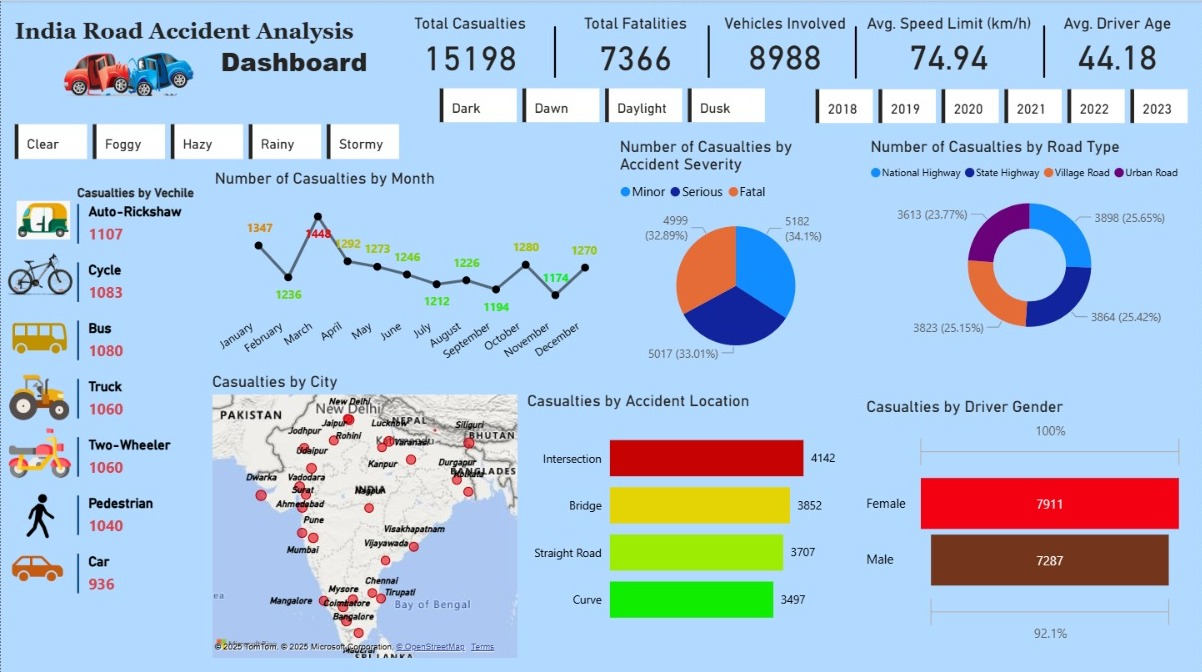

Layout of this report page (visuals, bound fields, positions):
{"tool":"powerbi","page":{"name":"Page 1","canvas":[1280,720],"ordinal":0},"visuals":[{"type":"textbox","box":[9.7,14.6,405.6,103.1],"z":0},{"type":"image","box":[51.6,26.3,172.2,91.4],"z":1000},{"type":"card","title":"Total Casualties","fields":{"Values":["Sum(accident_prediction_india.Number of Casualties)"]},"box":[415,14.2,168.5,68.3],"z":2000},{"type":"card","title":"Total Fatalities","fields":{"Values":["Sum(accident_prediction_india.Number of Fatalities)"]},"box":[599.4,14.2,151.6,68.3],"z":3000},{"type":"card","title":"Vehicles Involved","fields":{"Values":["Sum(accident_prediction_india.Number of Vehicles Involved)"]},"box":[758.1,14.2,152.5,68.3],"z":4000},{"type":"card","title":"Avg. Speed Limit (km/h)","fields":{"Values":["Avg(accident_prediction_india.Speed Limit (km/h))"]},"box":[916,14.2,185.3,68.3],"z":5000},{"type":"card","title":"Avg. Driver Age","fields":{"Values":["Avg(accident_prediction_india.Driver Age)"]},"box":[1107.5,14.2,161.4,68.3],"z":6000},{"type":"advancedSlicerVisual","fields":{"Values":["accident_prediction_india.Year"]},"box":[861.9,89.6,407,47],"z":7000},{"type":"advancedSlicerVisual","fields":{"Values":["accident_prediction_india.Lighting Conditions"]},"box":[462,88.7,356.5,47],"z":8000},{"type":"advancedSlicerVisual","fields":{"Values":["accident_prediction_india.Weather Conditions"]},"box":[9.7,126.4,421.2,47.7],"z":9000},{"type":"image","box":[0,383.2,82.7,77.8],"z":10000},{"type":"multiRowCard","title":"Casualties by Vechile","fields":{"Values":["Sum(accident_prediction_india.Number of Fatalities)","accident_prediction_india.Vehicle Type Involved"]},"box":[75.9,196.5,137.1,494.1],"z":11000},{"type":"image","box":[3.9,441.6,75.9,79.8],"z":12000},{"type":"image","box":[3.9,570,72,69.1],"z":13000},{"type":"image","box":[1,322.9,81.7,72.9],"z":14000},{"type":"image","box":[6.8,517.4,69.1,62.2],"z":15000},{"type":"image","box":[9.7,208.1,70,50.6],"z":16000},{"type":"image","box":[1.9,258.7,79.8,65.2],"z":17000},{"type":"lineChart","title":"Number of Casualties by Month","fields":{"Y":["Sum(accident_prediction_india.Number of Casualties)"],"Category":["Calender_1.Calender.Variation.Date Hierarchy.Month"]},"box":[222.6,179.1,416.7,225.2],"z":18000},{"type":"pieChart","fields":{"Category":["accident_prediction_india.Accident Severity"],"Y":["Sum(accident_prediction_india.Number of Casualties)"]},"box":[653.5,145.4,257.1,250],"z":19000},{"type":"donutChart","fields":{"Y":["Sum(accident_prediction_india.Number of Casualties)"],"Category":["accident_prediction_india.Road Type"]},"box":[920.4,145.4,348.5,226.1],"z":20000},{"type":"map","title":"Casualties by City","fields":{"Size":["Sum(accident_prediction_india.Number of Casualties)"],"Category":["accident_prediction_india.City Name"]},"box":[219.9,395.5,335.2,308.6],"z":21000},{"type":"funnel","title":"Casualties by Driver Gender","fields":{"Y":["Sum(accident_prediction_india.Number of Casualties)"],"Category":["accident_prediction_india.Driver Gender"]},"box":[916,422.1,347.6,267.8],"z":22000},{"type":"barChart","title":"Casualties by Accident Location","fields":{"Y":["Sum(accident_prediction_india.Number of Casualties)"],"Category":["accident_prediction_india.Accident Location Details"]},"box":[555.1,415.9,344.9,267.8],"z":23000},{"type":"shape","box":[579.9,27.5,19.5,55],"z":24000},{"type":"shape","box":[748.4,26.6,9.8,55.9],"z":25000},{"type":"shape","box":[903.5,27.5,12.4,55.9],"z":26000},{"type":"shape","box":[1103.9,26.6,12.4,55.9],"z":27000}]}

Visuals, with their boxes in screenshot pixels (x1, y1, x2, y2), scaled from the page's 1280x720 canvas onto the 1202x672 screenshot:
textbox: bbox(9, 14, 390, 110)
image: bbox(48, 25, 210, 110)
"Total Casualties" card: bbox(390, 13, 548, 77)
"Total Fatalities" card: bbox(563, 13, 705, 77)
"Vehicles Involved" card: bbox(712, 13, 855, 77)
"Avg. Speed Limit (km/h)" card: bbox(860, 13, 1034, 77)
"Avg. Driver Age" card: bbox(1040, 13, 1192, 77)
advancedSlicerVisual - accident_prediction_india.Year: bbox(809, 84, 1192, 127)
advancedSlicerVisual - accident_prediction_india.Lighting Conditions: bbox(434, 83, 769, 127)
advancedSlicerVisual - accident_prediction_india.Weather Conditions: bbox(9, 118, 405, 162)
image: bbox(0, 358, 78, 430)
"Casualties by Vechile" multiRowCard: bbox(71, 183, 200, 645)
image: bbox(4, 412, 75, 487)
image: bbox(4, 532, 71, 596)
image: bbox(1, 301, 78, 369)
image: bbox(6, 483, 71, 541)
image: bbox(9, 194, 75, 241)
image: bbox(2, 241, 77, 302)
"Number of Casualties by Month" lineChart: bbox(209, 167, 600, 377)
pieChart - accident_prediction_india.Accident Severity x Sum(accident_prediction_india.Number of Casualties): bbox(614, 136, 855, 369)
donutChart - Sum(accident_prediction_india.Number of Casualties) x accident_prediction_india.Road Type: bbox(864, 136, 1192, 347)
"Casualties by City" map: bbox(206, 369, 521, 657)
"Casualties by Driver Gender" funnel: bbox(860, 394, 1187, 644)
"Casualties by Accident Location" barChart: bbox(521, 388, 845, 638)
shape: bbox(545, 26, 563, 77)
shape: bbox(703, 25, 712, 77)
shape: bbox(848, 26, 860, 78)
shape: bbox(1037, 25, 1048, 77)
